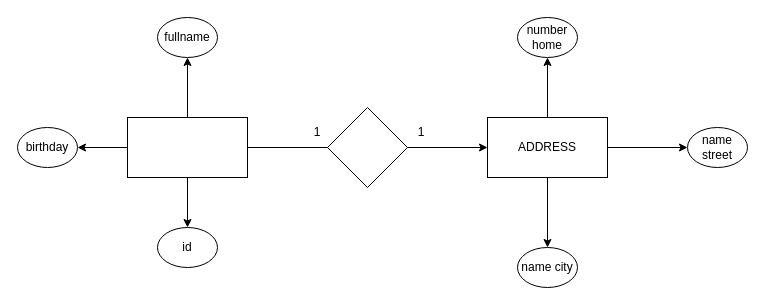
The diagram is 765 pixels wide and 305 high, and some of its shapes have lost their labels. Each missing label, with the centre of its shape:
"LIVE" belongs at [367,147].
"STUDENTS" belongs at [187,147].
